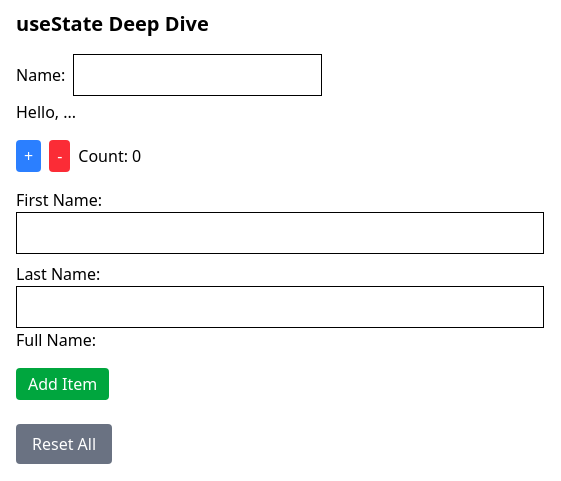
Test: UseStateAdvanced › increments and decrements counter
Click the button "+" at {"x": 29, "y": 156}, box 16,140 -> 41,172
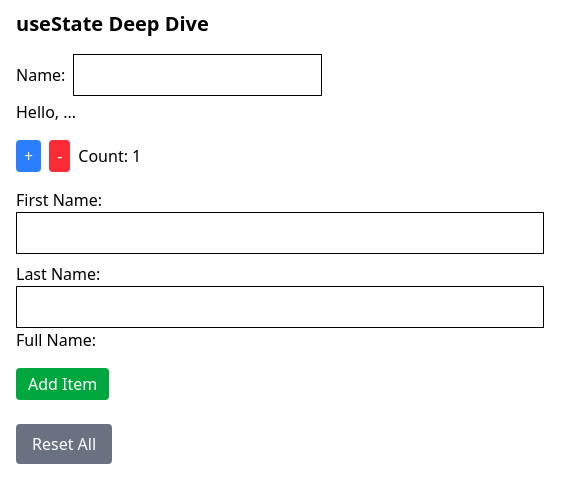
Click the button "+" at {"x": 29, "y": 156}, box 16,140 -> 41,172
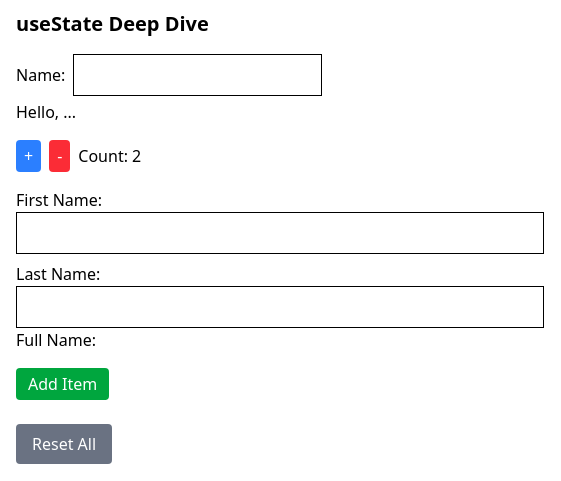
Click the button "-" at {"x": 60, "y": 156}, box 49,140 -> 70,172
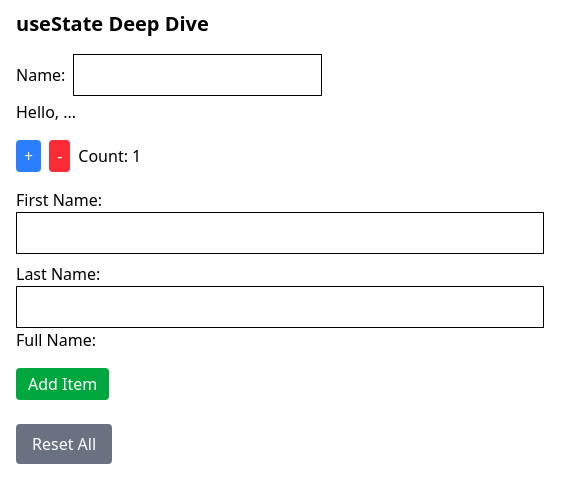
Result: the text "Count: 1" is shown at 78,145 -> 141,167
